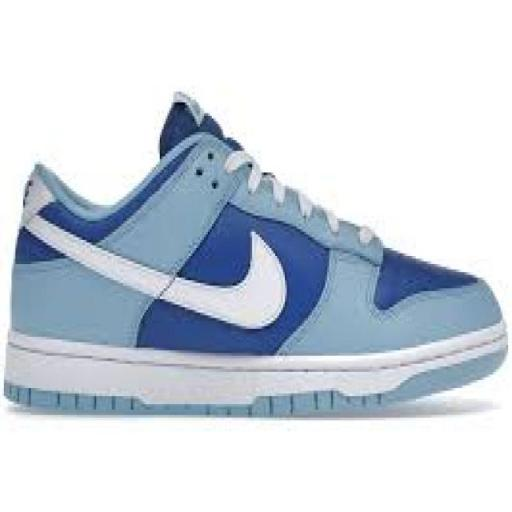Nike: (20, 202, 290, 334)
